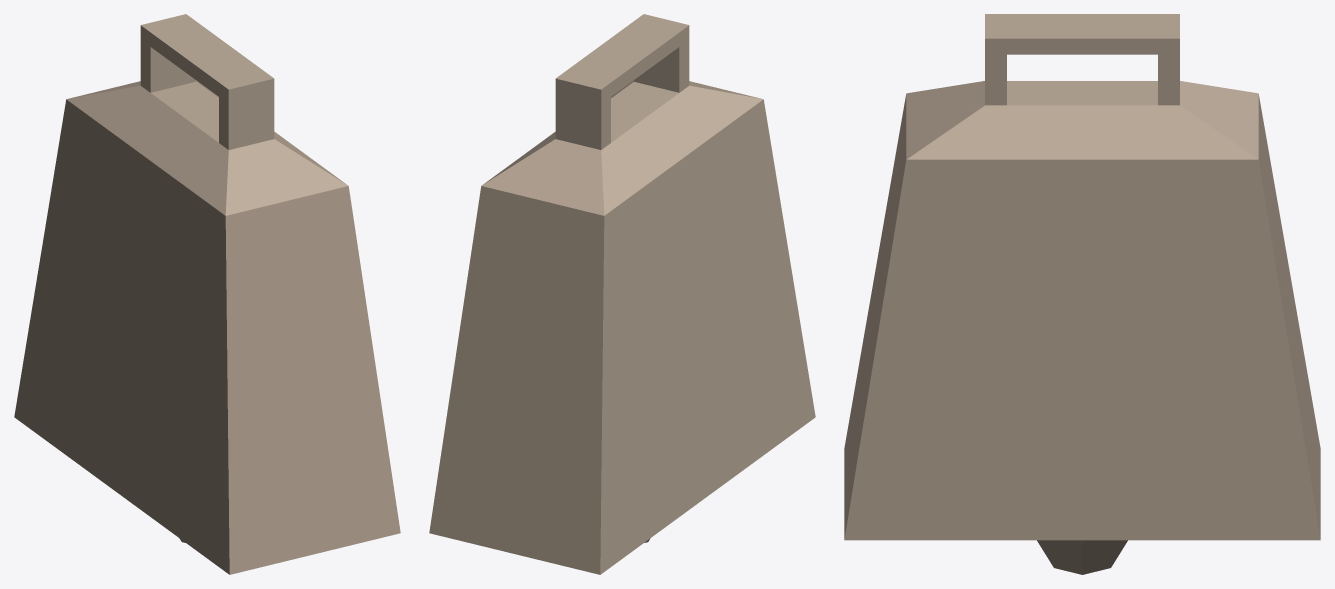
The model's file is Cowbell.fbx.
3 views of the same model, side by side, from view 1: azimuth 30°, elevation 25°; view 2: azimuth 150°, elevation 25°; view 3: azimuth 270°, elevation 25° (orthographic). The views are drawn at different scales.
Visible parts, largest first — view 1: Cowbell; view 2: Cowbell; view 3: Cowbell.
Part boxes in pixels (bbox=[...]): Cowbell: bbox=[14, 14, 400, 574]; Cowbell: bbox=[429, 14, 815, 574]; Cowbell: bbox=[844, 14, 1320, 574].
Size of the model in its own units: 0.0592 by 0.16 by 0.1291.
